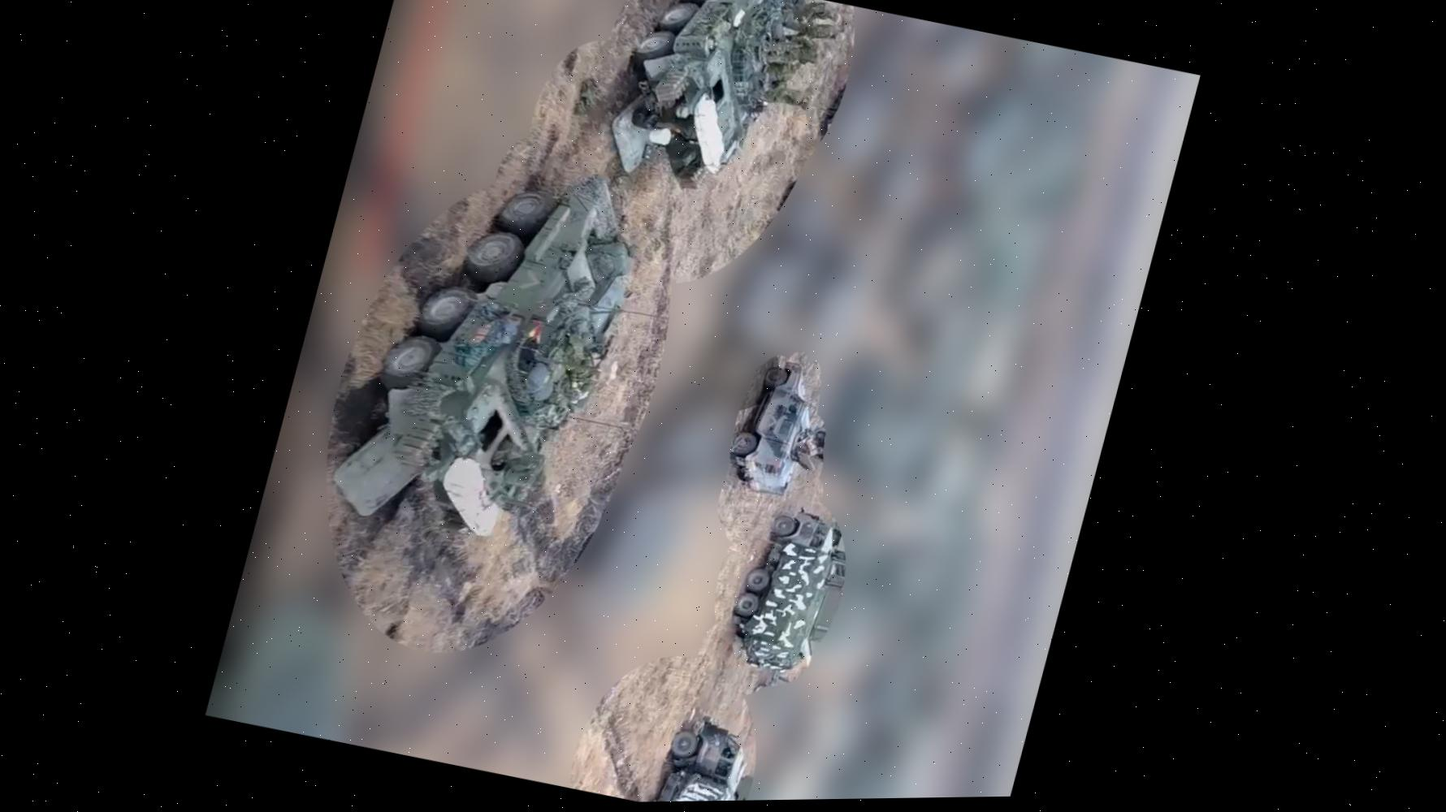armored_car: (315, 139, 650, 569), (599, 0, 836, 212), (720, 353, 843, 509)
truck: (713, 501, 845, 675), (633, 704, 761, 802)
